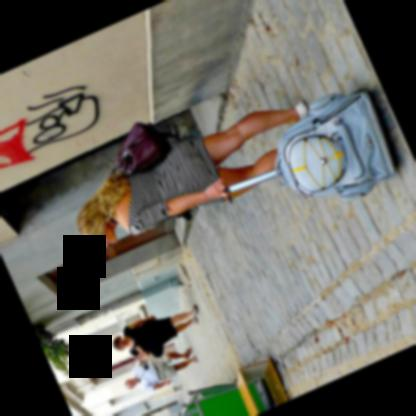handbag: (108, 121, 172, 179), (149, 343, 164, 356), (142, 359, 148, 370)
suitcase: (224, 88, 395, 202)
